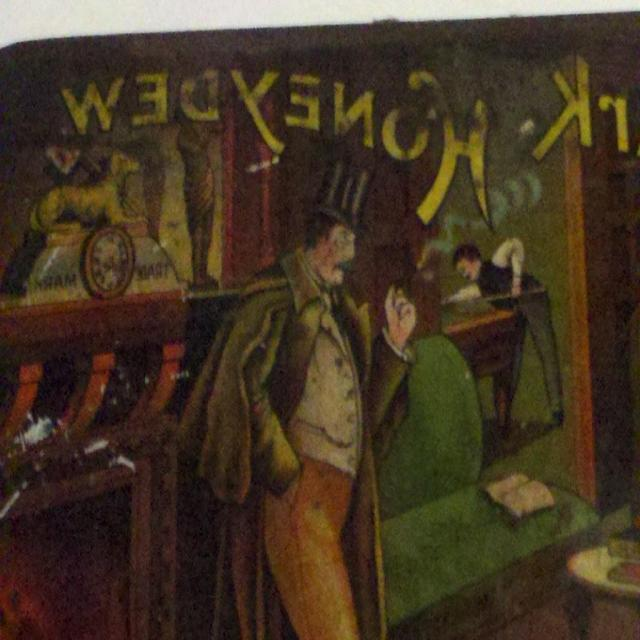smoking: (268, 185, 418, 350)
